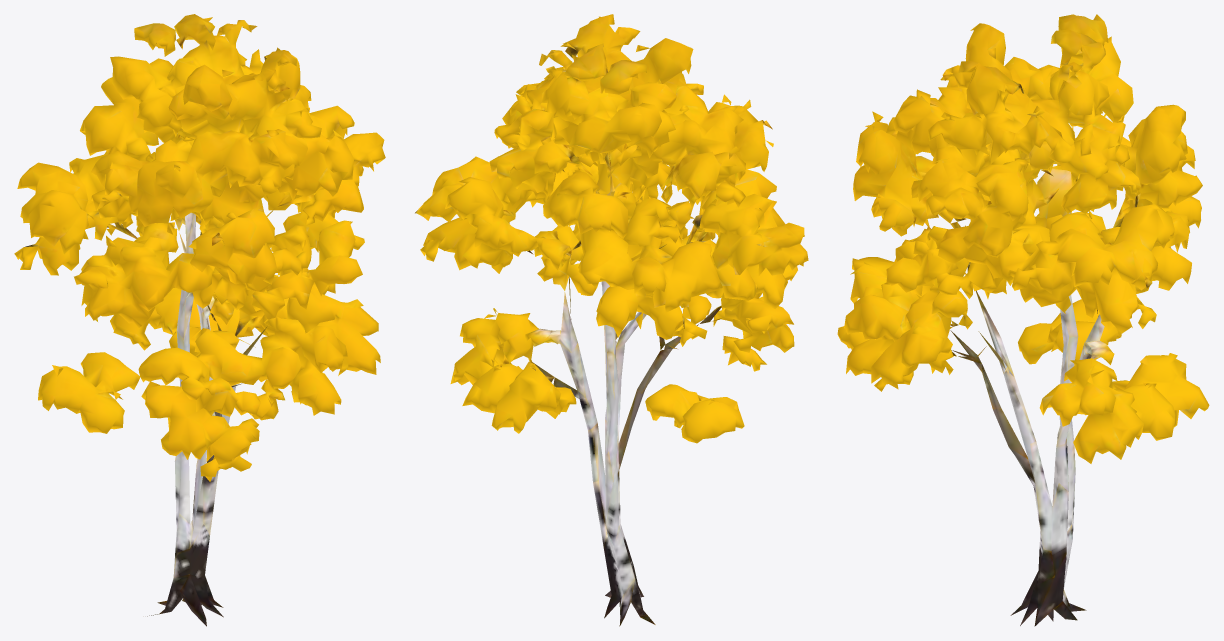
The model's file is prop-birch-autumn.glb.
3 renders of one model, left to right at view 1: azimuth 30°, elevation 25°; view 2: azimuth 150°, elevation 25°; view 3: azimuth 270°, elevation 25°, orthographic. The views are drawn at different scales.
Size of the model in its own units: 1.08 by 1.87 by 1.06.
Materials: 1 (1 with a texture image).
